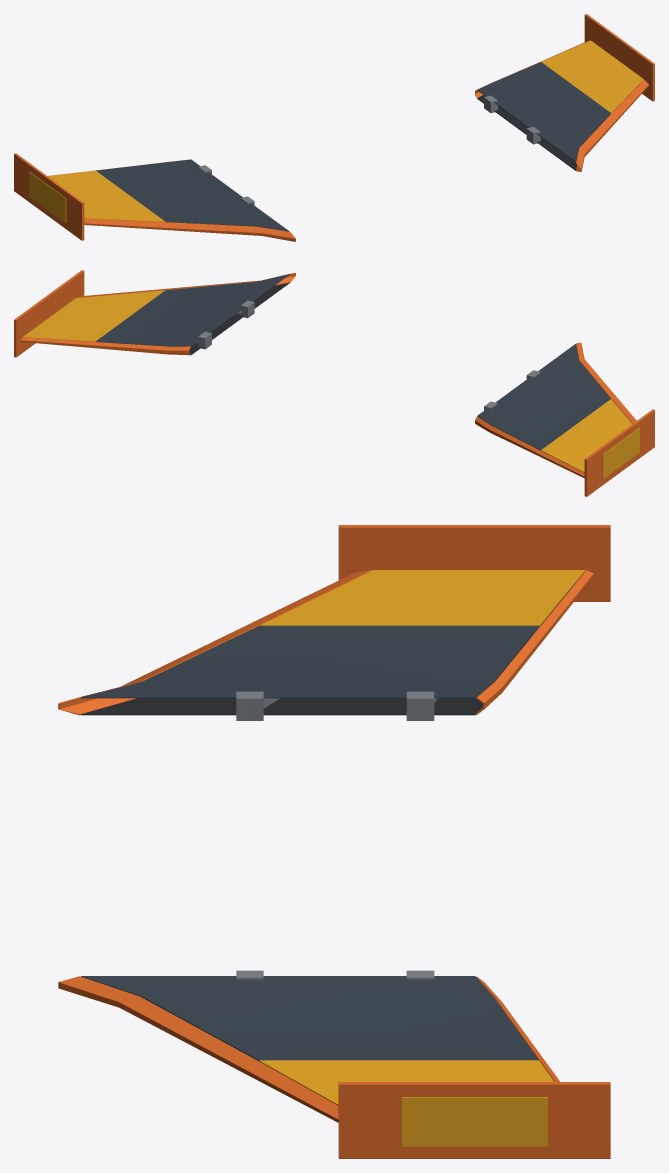
Rendered from bastion_wing_longspan.fbx.
3 views of the same model, one above another, from view 1: azimuth 30°, elevation 25°; view 2: azimuth 150°, elevation 25°; view 3: azimuth 270°, elevation 25° (orthographic). The views are drawn at different scales.
Visible parts, largest first — view 1: Wing_Top_R.001, Wing_Top_L.001, Wing_Longspan_Extra_L, Wing_Longspan_Extra_R, Wing_LE_L.001, Wing_LE_R.001, Wing_Bottom_R.001, Wing_Structure_R.001; view 2: Wing_Top_R.001, Wing_Top_L.001, Wing_Longspan_Extra_L, Wing_Longspan_Extra_R, Wing_TE_R.001, Wing_TE_L.001, Wing_Bottom_R.001, Wing_LE_L.001, Wing_LE_R.001, Wing_Structure_R.001; view 3: Wing_Top_L.001, Wing_Top_R.001, Wing_Longspan_Extra_R, Wing_Longspan_Extra_L, Wing_Bottom_L.001, Wing_LE_R.001, Wing_LE_L.001, Wing_TE_L.001, Wing_Structure_L.001.
Part boxes in pixels (x1,y1,x2,y2): Wing_Top_R.001: (477,40,643,162); Wing_Top_L.001: (48,159,289,231); Wing_Longspan_Extra_L: (14,153,84,240); Wing_Longspan_Extra_R: (584,14,654,101); Wing_LE_L.001: (84,218,295,241); Wing_LE_R.001: (576,79,648,171); Wing_Bottom_R.001: (477,87,636,170); Wing_Structure_R.001: (484,84,639,153); Wing_Top_R.001: (23,274,289,346); Wing_Top_L.001: (477,344,632,472); Wing_Longspan_Extra_L: (584,409,654,496); Wing_Longspan_Extra_R: (14,270,84,357); Wing_TE_R.001: (20,337,190,355); Wing_TE_L.001: (475,416,584,478); Wing_Bottom_R.001: (189,282,289,354); Wing_LE_L.001: (576,342,636,423); Wing_LE_R.001: (77,273,295,297); Wing_Structure_R.001: (196,300,254,349); Wing_Top_L.001: (81,570,584,698); Wing_Top_R.001: (81,976,554,1105); Wing_Longspan_Extra_R: (338,1082,610,1158); Wing_Longspan_Extra_L: (338,525,610,601); Wing_Bottom_L.001: (81,585,573,715); Wing_LE_R.001: (58,976,338,1122); Wing_LE_L.001: (58,570,371,715); Wing_TE_L.001: (476,570,593,714); Wing_Structure_L.001: (236,579,578,720).
Size of the model in its own units: 482 by 30 by 201.
